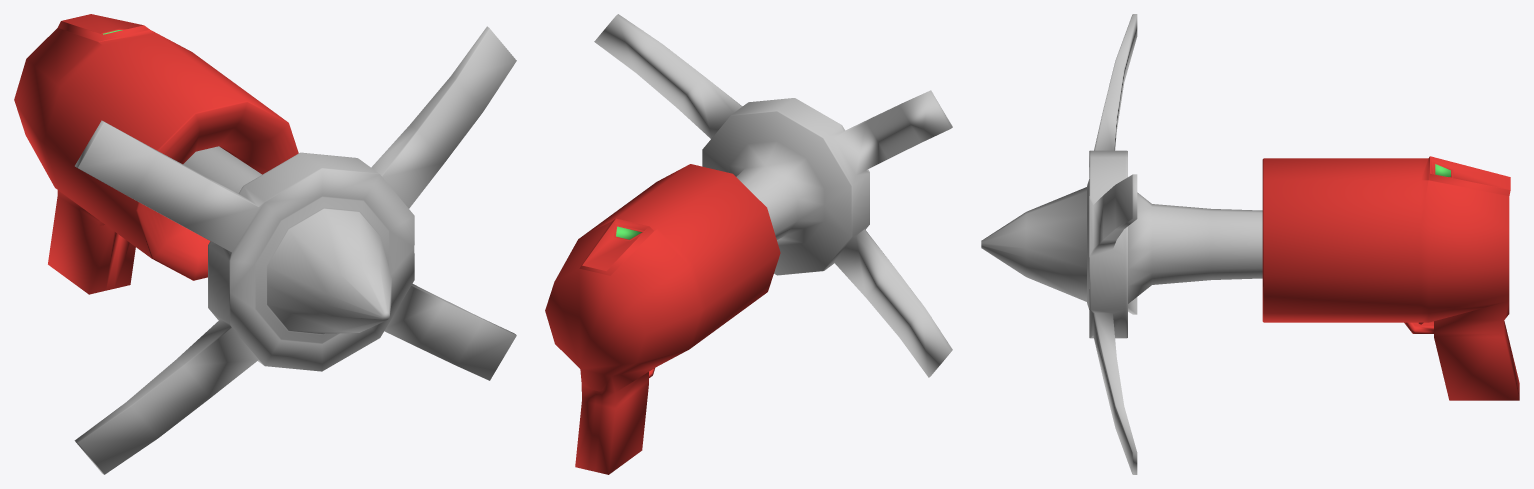
Rendered from GrappleGun.fbx.
The picture shows the model from 3 angles, left to right: view 1: azimuth 30°, elevation 25°; view 2: azimuth 150°, elevation 25°; view 3: azimuth 270°, elevation 25°; orthographic projection. The views are drawn at different scales.
Parts seen in each view (by area): view 1: Hook_Main, GrappleGun; view 2: GrappleGun, Hook_Main; view 3: GrappleGun, Hook_Main.
Part boxes in pixels (bbox=[...]): Hook_Main: bbox=[74, 26, 516, 474]; GrappleGun: bbox=[14, 14, 298, 294]; GrappleGun: bbox=[545, 164, 780, 474]; Hook_Main: bbox=[594, 14, 952, 377]; GrappleGun: bbox=[1262, 156, 1519, 400]; Hook_Main: bbox=[981, 14, 1262, 474].
Size of the model in its own units: 22.25 by 17.06 by 27.67.
